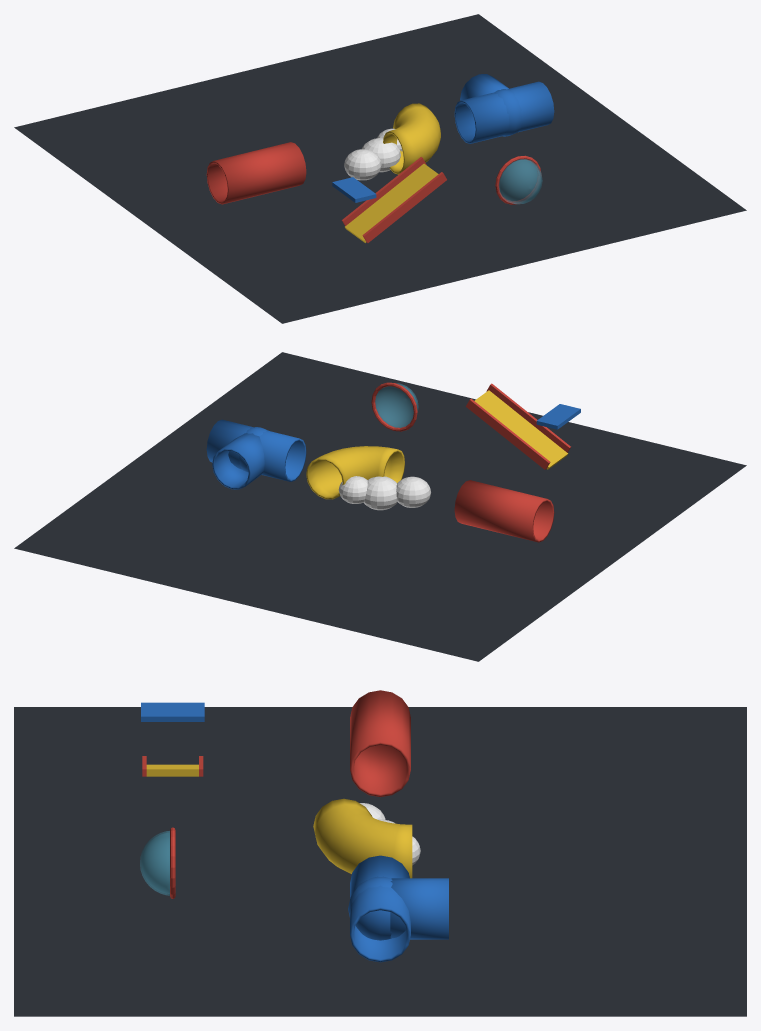
File: tubes.glb
3 renders of one model, top to bottom at view 1: azimuth 30°, elevation 25°; view 2: azimuth 150°, elevation 25°; view 3: azimuth 270°, elevation 25°, orthographic. The views are drawn at different scales.
Parts seen in each view (by area): view 1: Display_Floor, 01_Straight_Crawl_Tube, T_Main, 02_90_Degree_Corner_Tube, Slide_Floor, Bubble_Acrylic_Dome, Slide_Rail_L, Hidden_Depressor_0, Slide_Rail_R, T_Branch, Hidden_Depressor_2, Slide_Top_Platform (+2 smaller); view 2: Display_Floor, 01_Straight_Crawl_Tube, 02_90_Degree_Corner_Tube, T_Main, T_Branch, Slide_Floor, Bubble_Acrylic_Dome, Slide_Rail_R, Hidden_Depressor_2, Hidden_Depressor_0, Slide_Rail_L, Slide_Top_Platform (+2 smaller); view 3: Display_Floor, 01_Straight_Crawl_Tube, 02_90_Degree_Corner_Tube, T_Main, T_Branch, Bubble_Acrylic_Dome, T_Center_Collar, Slide_Top_Platform, Slide_Floor.
Boxes of the visible parts, left/top/right/bottom form: Display_Floor: left=14, top=14, right=746, bottom=323; 01_Straight_Crawl_Tube: left=206, top=142, right=306, bottom=204; T_Main: left=454, top=81, right=554, bottom=143; 02_90_Degree_Corner_Tube: left=383, top=103, right=440, bottom=174; Slide_Floor: left=345, top=163, right=438, bottom=242; Bubble_Acrylic_Dome: left=499, top=159, right=542, bottom=204; Slide_Rail_L: left=362, top=172, right=446, bottom=242; Hidden_Depressor_0: left=344, top=149, right=381, bottom=180; Slide_Rail_R: left=342, top=157, right=426, bottom=225; T_Branch: left=460, top=74, right=508, bottom=100; Hidden_Depressor_2: left=361, top=138, right=400, bottom=172; Slide_Top_Platform: left=332, top=177, right=376, bottom=202; Display_Floor: left=14, top=352, right=746, bottom=661; 01_Straight_Crawl_Tube: left=454, top=480, right=554, bottom=542; 02_90_Degree_Corner_Tube: left=306, top=446, right=404, bottom=499; T_Main: left=206, top=419, right=306, bottom=481; T_Branch: left=212, top=433, right=264, bottom=489; Slide_Floor: left=474, top=390, right=568, bottom=469; Bubble_Acrylic_Dome: left=375, top=383, right=418, bottom=427; Slide_Rail_R: left=466, top=398, right=550, bottom=469; Hidden_Depressor_2: left=363, top=476, right=397, bottom=510; Hidden_Depressor_0: left=396, top=476, right=430, bottom=507; Slide_Rail_L: left=486, top=383, right=570, bottom=452; Slide_Top_Platform: left=536, top=404, right=580, bottom=429; Display_Floor: left=14, top=707, right=746, bottom=1016; 01_Straight_Crawl_Tube: left=350, top=690, right=410, bottom=797; 02_90_Degree_Corner_Tube: left=313, top=798, right=412, bottom=878; T_Main: left=350, top=855, right=410, bottom=962; T_Branch: left=390, top=878, right=448, bottom=939; Bubble_Acrylic_Dome: left=140, top=831, right=169, bottom=895; T_Center_Collar: left=348, top=876, right=392, bottom=940; Slide_Top_Platform: left=141, top=702, right=204, bottom=721; Slide_Floor: left=146, top=764, right=198, bottom=776.
Size of the model in its own units: 30 by 4.12 by 30.
